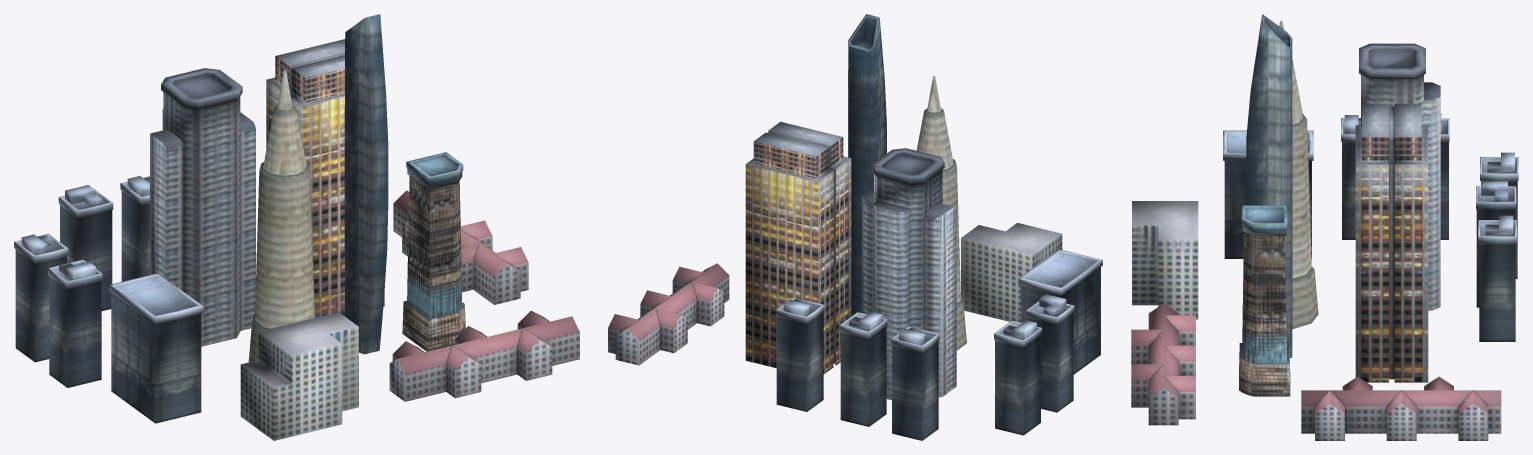
Rendered from city_postmodern_3.glb.
3 views of the same model, side by side, from view 1: azimuth 30°, elevation 25°; view 2: azimuth 150°, elevation 25°; view 3: azimuth 270°, elevation 25° (orthographic). The views are drawn at different scales.
Visible parts, largest first — view 1: 16_low.043, 16_low.048, 16_low.046, 16_low.049, 16_low.047, 16_low.044, 16_low.059, 16_low.045, 16_low.052, 16_low.051, 16_low.053, 16_low.057 (+1 smaller); view 2: 16_low.047, 16_low.043, 16_low.048, 16_low.051, 16_low.046, 16_low.049, 16_low.055, 16_low.058, 16_low.057, 16_low.053, 16_low.052, 16_low.044; view 3: 16_low.047, 16_low.051, 16_low.059, 16_low.048, 16_low.046, 16_low.043, 16_low.045, 16_low.055, 16_low.044, 16_low.049, 16_low.052, 16_low.058 (+2 smaller).
Boxes of the visible parts, x1,y1,x2,y2 form: 16_low.043: [150, 68, 255, 346]; 16_low.048: [344, 14, 388, 354]; 16_low.046: [240, 312, 358, 440]; 16_low.049: [109, 273, 203, 423]; 16_low.047: [266, 39, 384, 316]; 16_low.044: [248, 69, 317, 362]; 16_low.059: [402, 152, 465, 351]; 16_low.045: [389, 310, 579, 401]; 16_low.052: [48, 259, 102, 387]; 16_low.051: [393, 190, 528, 304]; 16_low.053: [14, 233, 68, 362]; 16_low.057: [58, 185, 113, 310]; 16_low.047: [745, 121, 851, 374]; 16_low.043: [862, 148, 956, 400]; 16_low.048: [848, 14, 886, 315]; 16_low.051: [608, 263, 729, 365]; 16_low.046: [961, 222, 1062, 322]; 16_low.049: [1018, 249, 1102, 374]; 16_low.055: [775, 297, 824, 411]; 16_low.058: [839, 311, 887, 426]; 16_low.057: [891, 326, 939, 440]; 16_low.053: [994, 320, 1042, 435]; 16_low.052: [1025, 294, 1074, 412]; 16_low.044: [916, 76, 966, 350]; 16_low.047: [1355, 103, 1428, 382]; 16_low.051: [1301, 376, 1501, 440]; 16_low.059: [1239, 205, 1290, 396]; 16_low.048: [1246, 14, 1292, 357]; 16_low.046: [1132, 201, 1198, 319]; 16_low.043: [1359, 43, 1440, 310]; 16_low.045: [1131, 303, 1195, 425]; 16_low.055: [1478, 215, 1516, 341]; 16_low.044: [1279, 21, 1318, 329]; 16_low.049: [1223, 130, 1313, 258]; 16_low.052: [1341, 115, 1360, 239]; 16_low.058: [1476, 181, 1516, 307].
Size of the model in its own units: 2.8 by 2.03 by 2.12.
4 materials, 4 textured.
